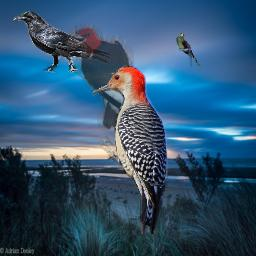Crow: (13, 11, 116, 74)
Cuckoo: (176, 33, 202, 67)
Woodpecker: (92, 65, 168, 234), (67, 23, 143, 131)
